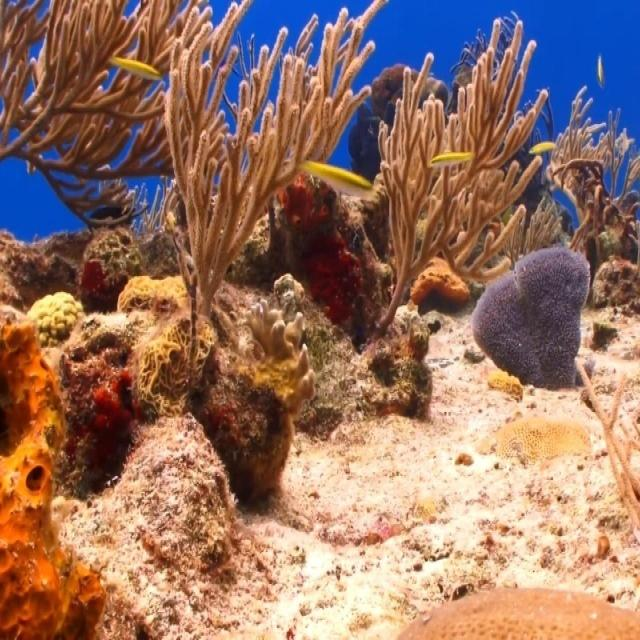fish: (298, 160, 372, 195), (111, 58, 163, 77)
reefs: (165, 0, 389, 309), (375, 18, 551, 334), (0, 0, 195, 227), (470, 252, 593, 386), (548, 87, 638, 247)
